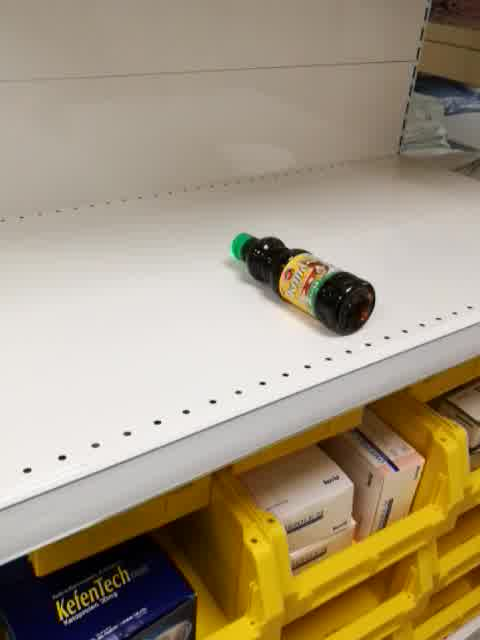cookingoil: (226, 229, 376, 338)
